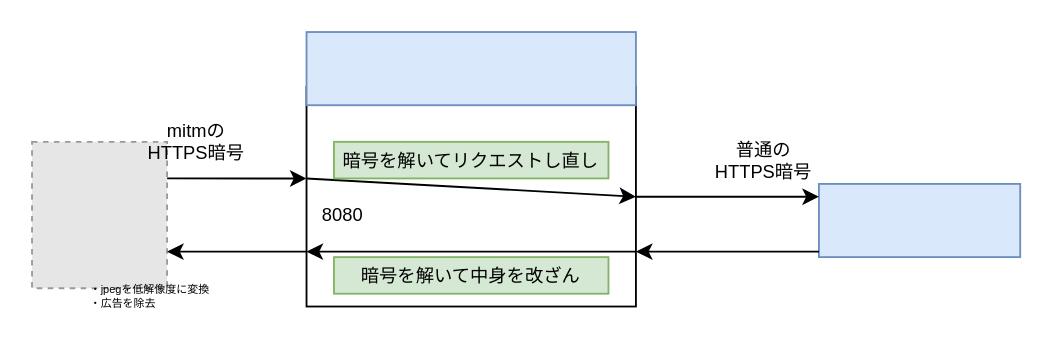
This 1052x357 diagram has some shape labels left out. Grey dashed boxes stand in for pictures. The shapes that lost their labels are listed below. From the top down, each one's box as (x1, y1, x2, y2) in pixels, then its label:
(305, 30, 636, 105): mitmproxy (Google Cloud Platform)
(817, 182, 1020, 257): 色んなサイト
